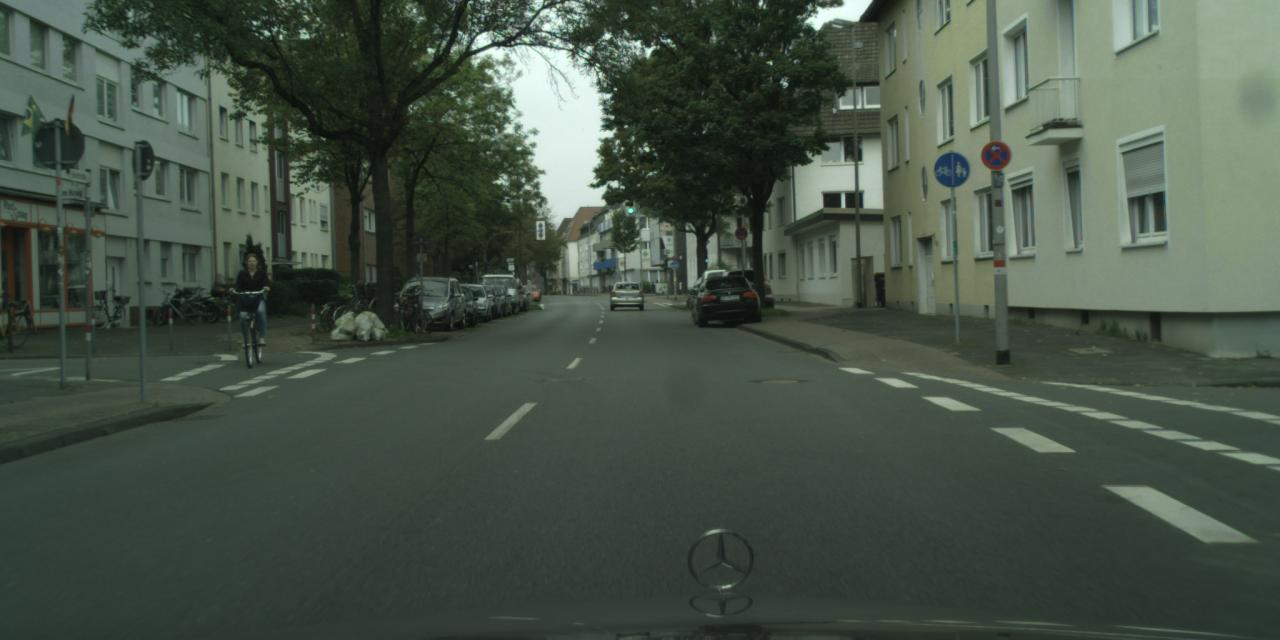ped: (233, 252, 271, 346)
